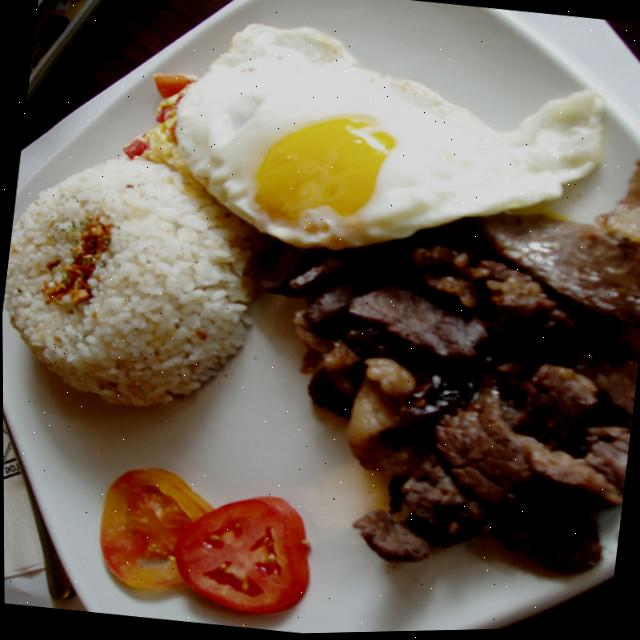鸡蛋料理: (130, 0, 622, 284)
